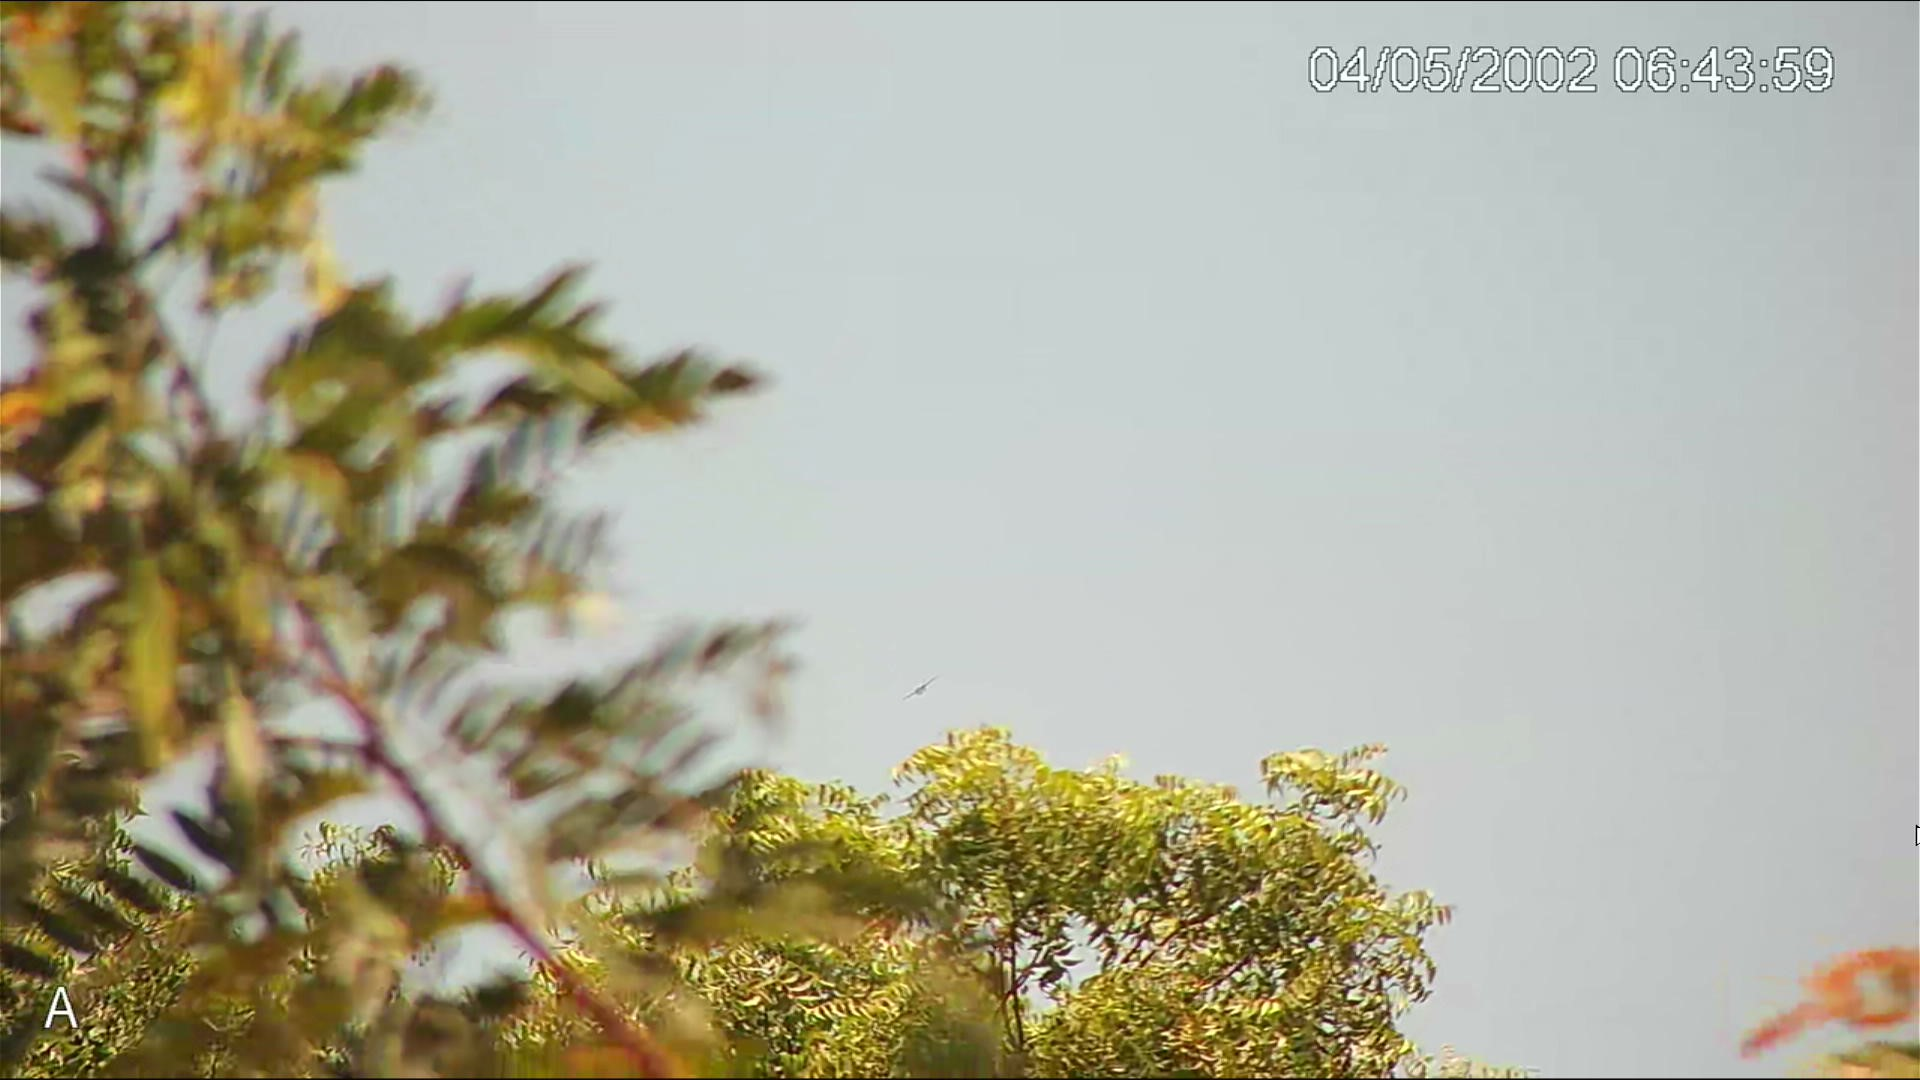SU_30: (903, 678, 939, 700)
